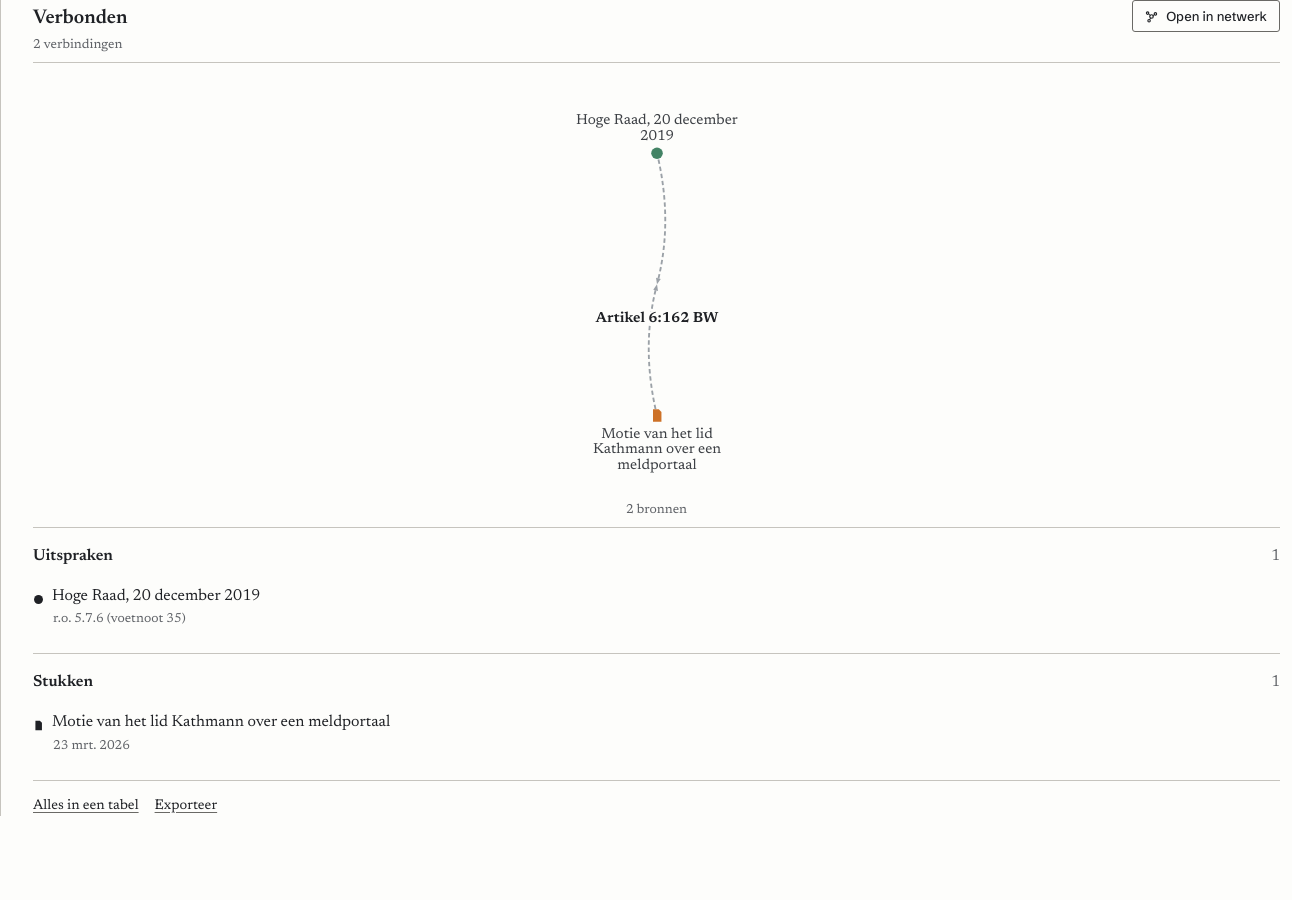
it: Verbonden › opens in Tekst on the soorten: a heading with its count, three titles with one line, no Alle N
This screenshot has width=1292, height=900.
Expected: the headings read "Uitspraken1", "Stukken1", in this order, [33,544,1280,568]; [33,670,1280,694]
Expected: the text "HR:2019:2006" is not shown
Click the link "Hoge Raad, 20 december 2019" at (156, 596), box [52,584,260,608]
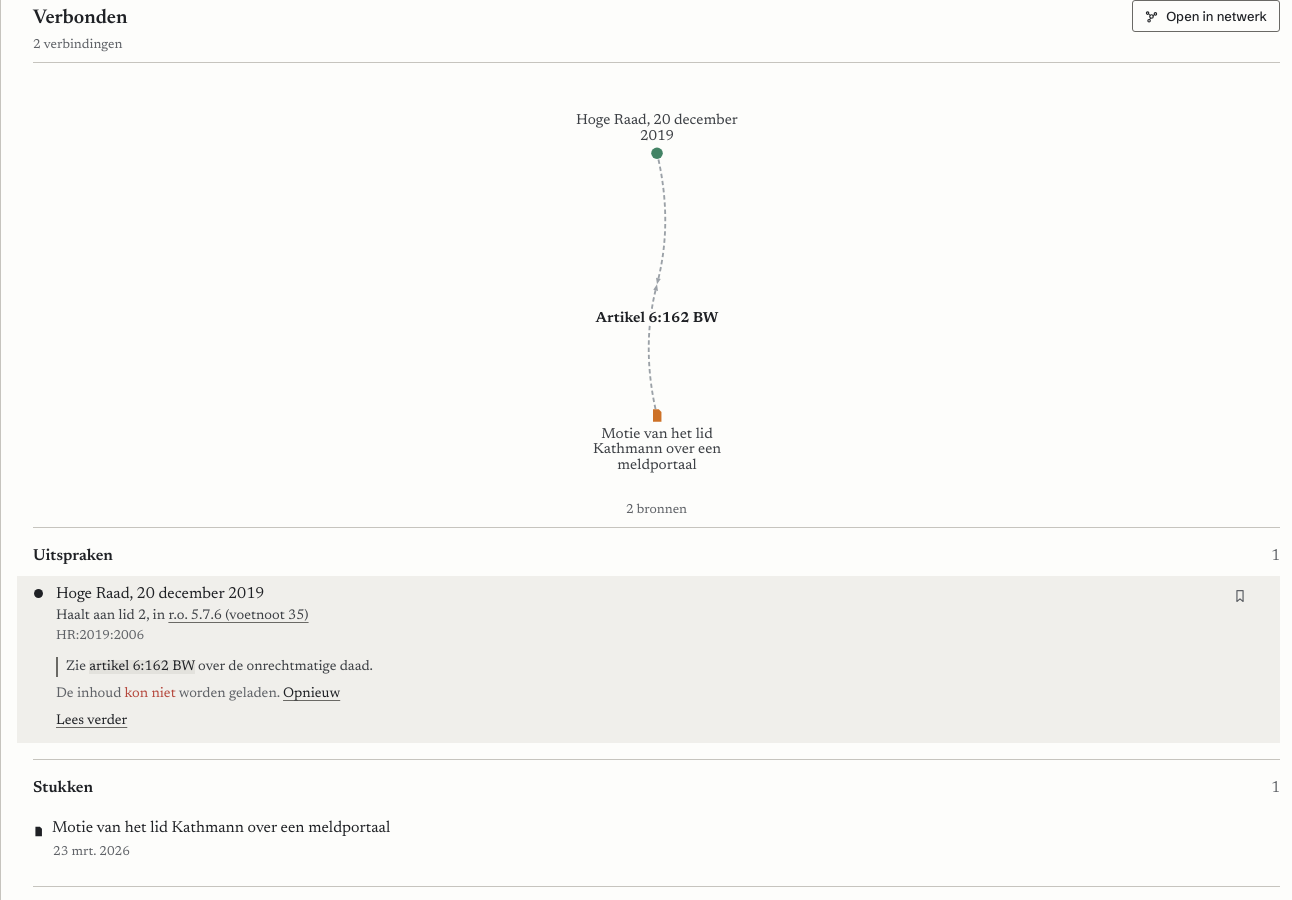
Now the text "HR:2019:2006" is shown, box [56,630,144,642]
